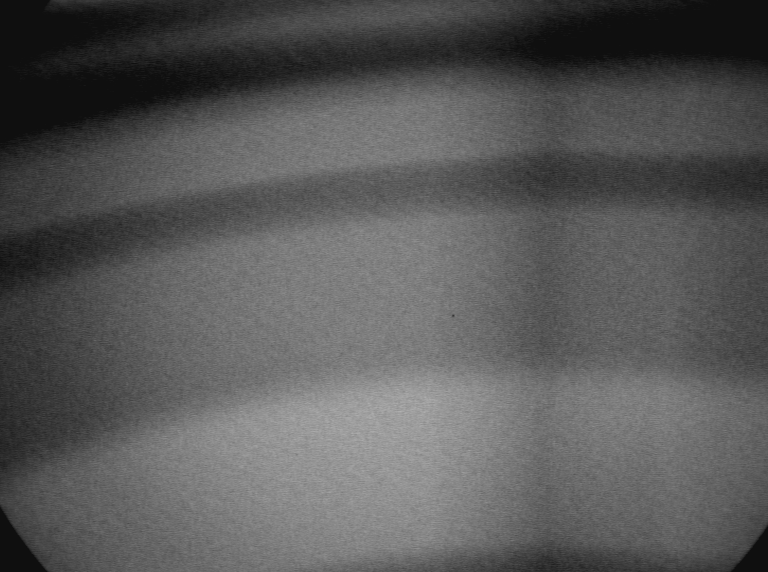defect: (490, 4, 634, 564)
